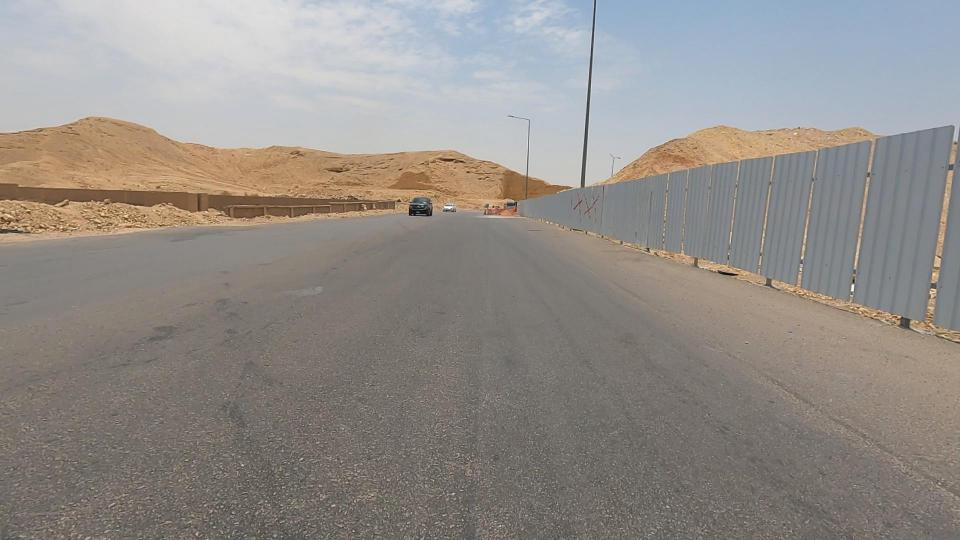SAND_ON_ROAD: (41, 159, 292, 286), (0, 171, 154, 263)
